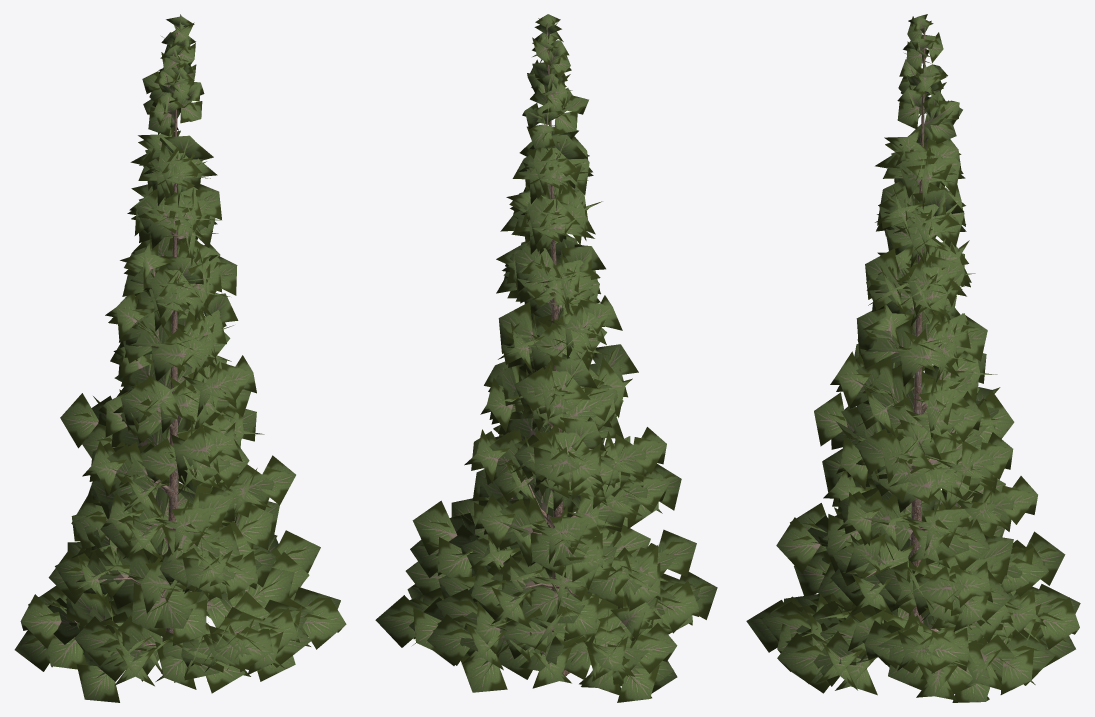
File: fir-04.gltf
3 views of the same model, side by side, from view 1: azimuth 30°, elevation 25°; view 2: azimuth 150°, elevation 25°; view 3: azimuth 270°, elevation 25° (orthographic). The views are drawn at different scales.
Parts seen in each view (by area): view 1: fir-04; view 2: fir-04; view 3: fir-04.
Part boxes in pixels (x1,y1,x2,y2): fir-04: (14,14,346,702); fir-04: (375,14,717,702); fir-04: (746,14,1080,702).
Size of the model in its own units: 473 by 1071 by 482.
Materials: 2 (2 with a texture image).
